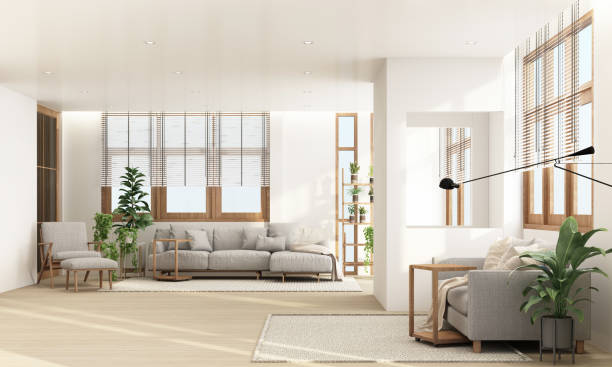chair: (430, 254, 593, 354), (35, 219, 107, 292)
floor lamp: (436, 143, 612, 191)
large plant: (517, 215, 609, 363), (119, 165, 153, 272)
small plant: (347, 159, 360, 183), (349, 186, 363, 204), (347, 204, 357, 223), (360, 204, 366, 222)
sofa: (145, 218, 341, 286)
